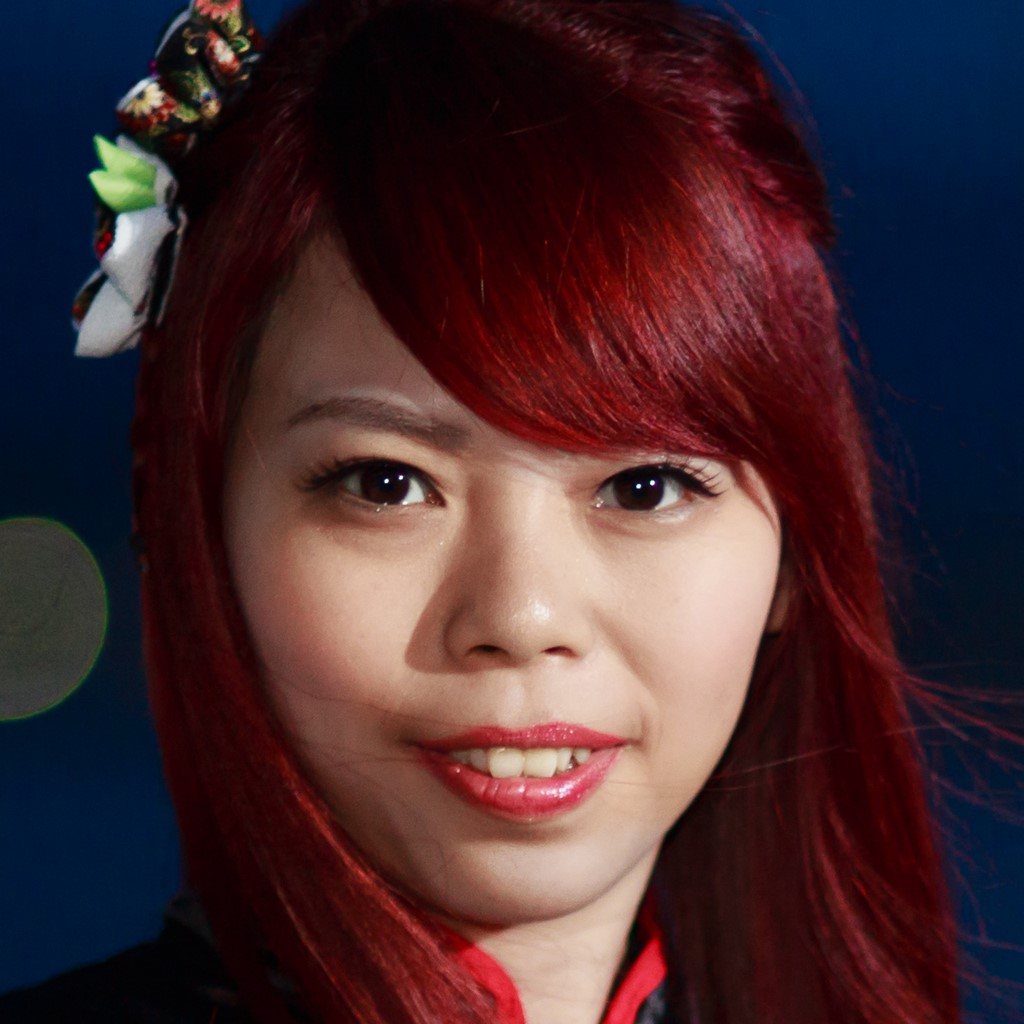sin_mascara: (215, 165, 785, 938)
